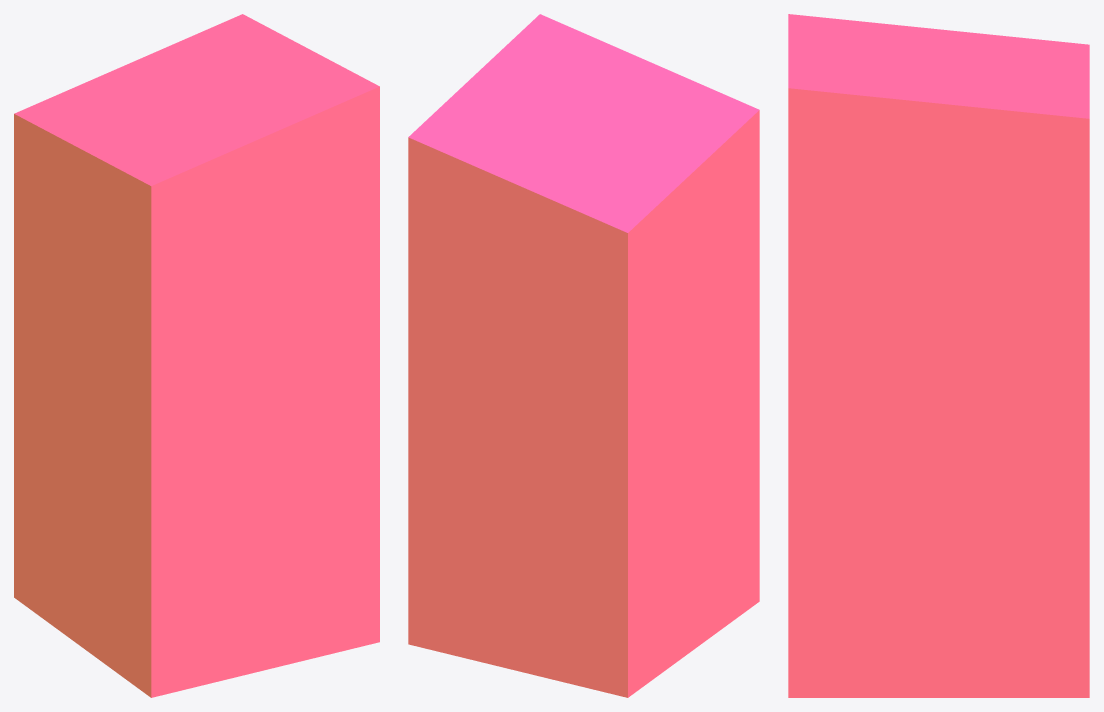
3 views of the same model, side by side, from view 1: azimuth 30°, elevation 25°; view 2: azimuth 150°, elevation 25°; view 3: azimuth 270°, elevation 25° (orthographic). The views are drawn at different scales.
Visible parts, largest first — view 1: polySurface5; view 2: polySurface5; view 3: polySurface5.
Part boxes in pixels (box(x1,y1,x2,y2)): polySurface5: box(14, 14, 379, 697); polySurface5: box(408, 14, 759, 697); polySurface5: box(788, 14, 1089, 697).
Bounding box in the file's own units: 2.41 × 5.59 × 2.5.
